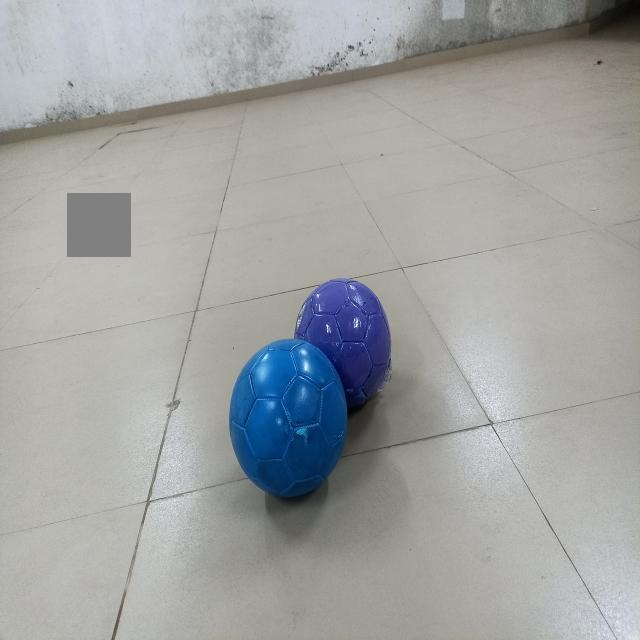blue_ball: (219, 336, 358, 503)
purple_ball: (294, 268, 395, 422)
